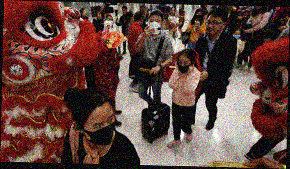with_mask: (84, 111, 117, 146), (176, 57, 192, 75), (149, 18, 162, 34), (104, 24, 115, 41), (233, 32, 242, 40), (195, 11, 203, 20), (107, 17, 114, 26)
without_mask: (205, 17, 223, 34), (170, 8, 176, 16), (82, 9, 88, 16), (97, 12, 103, 19), (122, 8, 129, 14), (178, 5, 183, 10)
